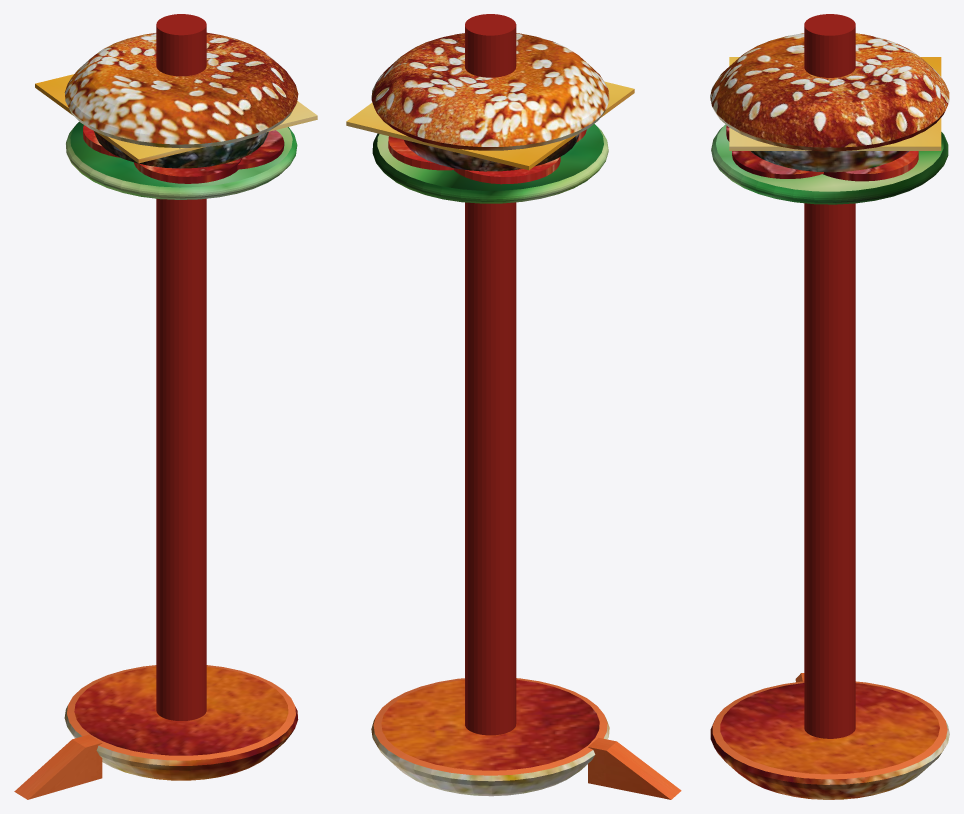
File: 美式漢堡自由落體.fbx
3 renders of one model, left to right at view 1: azimuth 30°, elevation 25°; view 2: azimuth 150°, elevation 25°; view 3: azimuth 270°, elevation 25°, orthographic. The views are drawn at different scales.
Visible parts, largest first — view 1: A.自由落體.001, A.自由落體.004, Cube.046; view 2: A.自由落體.001, A.自由落體.004, Cube.046; view 3: A.自由落體.001, A.自由落體.004.
Part boxes in pixels (x1,y1,x2,y2): A.自由落體.001: (64, 14, 298, 780); A.自由落體.004: (35, 32, 317, 199); Cube.046: (14, 734, 102, 799); A.自由落體.001: (371, 14, 609, 796); A.自由落體.004: (346, 33, 634, 203); Cube.046: (588, 737, 681, 799); A.自由落體.001: (710, 14, 949, 799); A.自由落體.004: (710, 33, 949, 204).
Bounding box in the file's own units: 2644 × 6667 × 1960.
